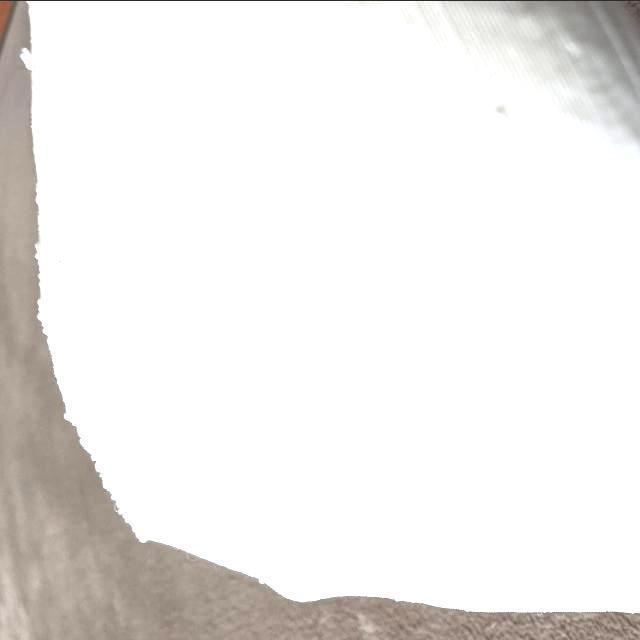zits: (504, 355, 521, 377), (527, 440, 547, 458), (197, 164, 214, 182), (317, 305, 335, 321), (164, 240, 178, 260), (114, 188, 130, 204), (491, 100, 505, 118), (128, 231, 144, 245), (472, 414, 488, 428), (138, 162, 152, 176), (207, 250, 221, 264), (444, 434, 456, 450), (200, 272, 212, 286), (223, 278, 233, 288)
